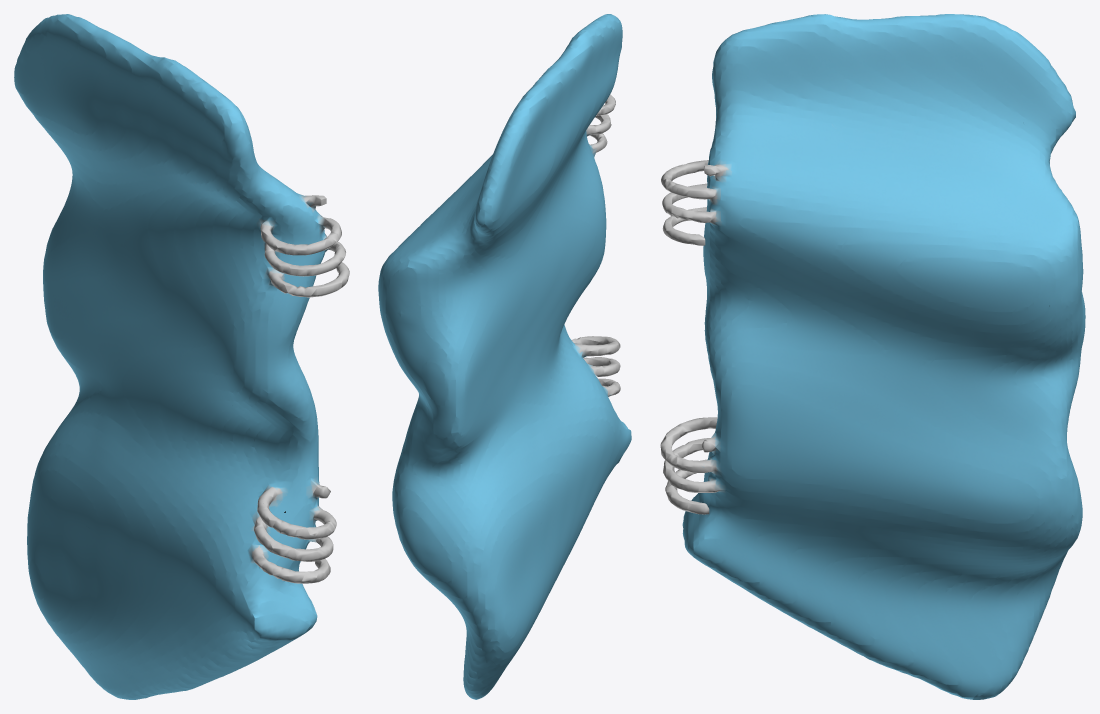
Rendered from curtain.gltf.
3 renders of one model, left to right at view 1: azimuth 30°, elevation 25°; view 2: azimuth 150°, elevation 25°; view 3: azimuth 270°, elevation 25°, orthographic. The views are drawn at different scales.
Parts seen in each view (by area): view 1: Layer_1; view 2: Layer_1; view 3: Layer_1.
Part boxes in pixels (x1,y1,x2,y2): Layer_1: (14, 14, 349, 699); Layer_1: (378, 14, 631, 699); Layer_1: (660, 14, 1085, 699).
Bounding box in the file's own units: 22.43 × 101 × 58.11.
1 material, 1 textured.
